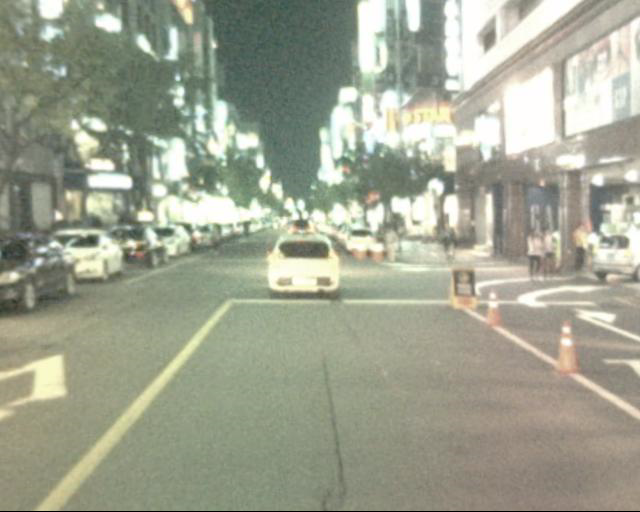person: (541, 222, 572, 282), (520, 222, 550, 283), (379, 222, 409, 277)
